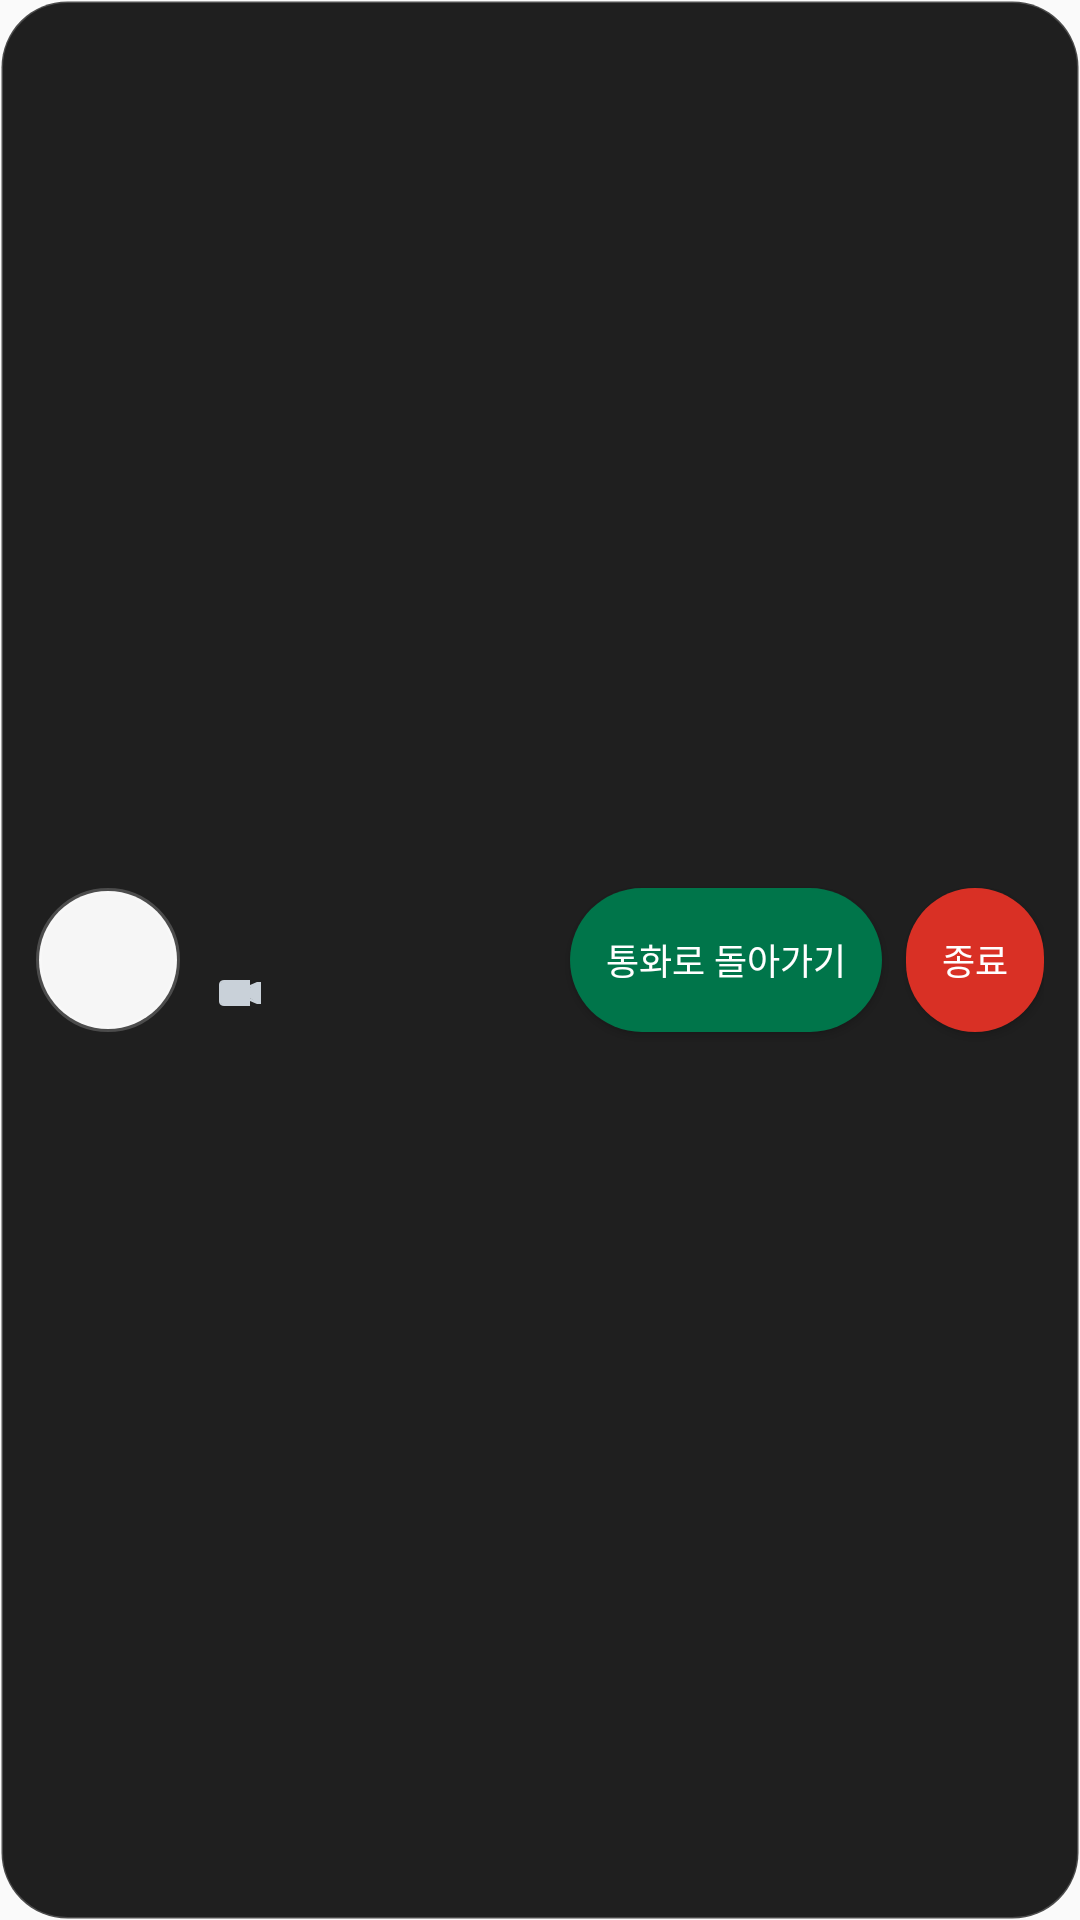

Named icons in this screenshot (1080 x 1920) and their centers, [x,y]:
DiBay 영상 통화: [240,993]
